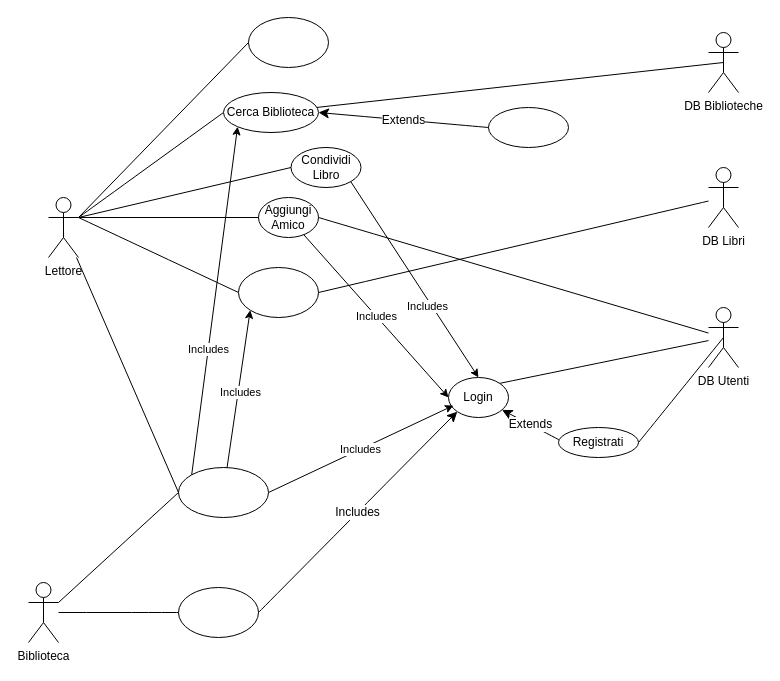
This 780x681 diagram has some shape labels left out. The shapes that lost their labels are listed below. From the top down, each one's box as (x1, y1, x2, y2) in pixels, then its label:
(248, 16, 328, 68): Gestisci Libreria Personale
(488, 106, 568, 148): Segui Biblioteca
(238, 266, 318, 318): Cerca Libro
(178, 466, 268, 518): Prenota Libro
(178, 586, 258, 638): Pubblica Annuncio
